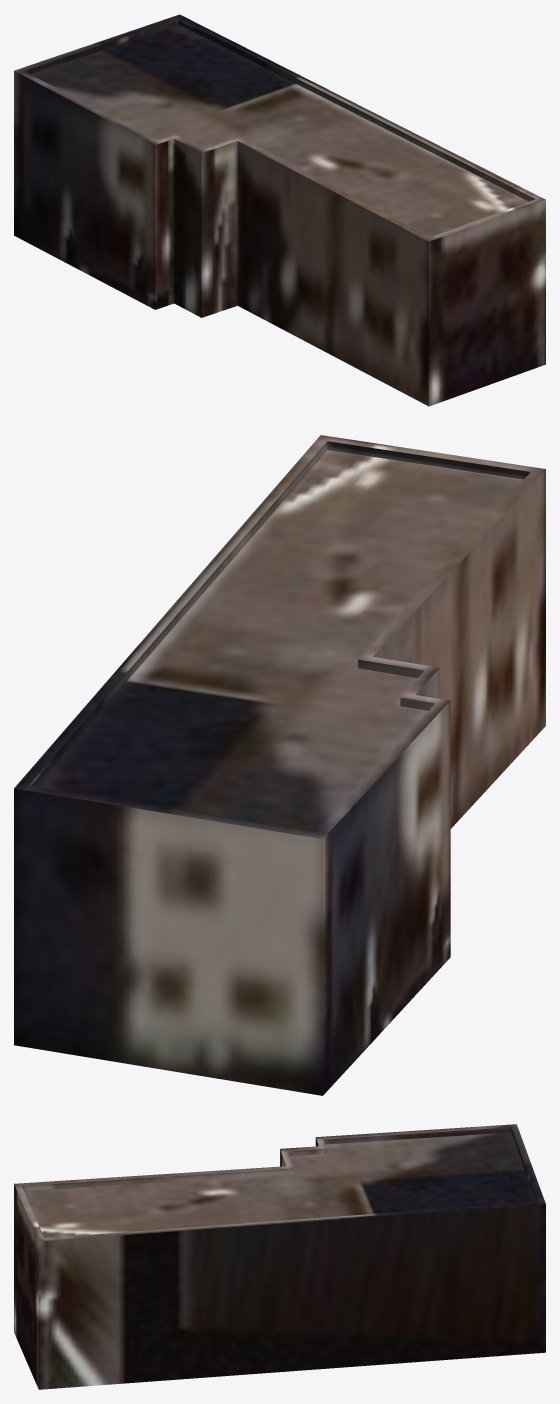
File: 01100-bldg-303345.glb
3 views of the same model, one above another, from view 1: azimuth 30°, elevation 25°; view 2: azimuth 150°, elevation 25°; view 3: azimuth 270°, elevation 25° (orthographic). The views are drawn at different scales.
Visible parts, largest first — view 1: model; view 2: model; view 3: model.
Part boxes in pixels (bbox=[...]): model: bbox=[14, 14, 545, 406]; model: bbox=[14, 435, 545, 1095]; model: bbox=[14, 1124, 545, 1389].
Bounding box in the file's own units: 12.43 × 7.34 × 23.83.
2 materials, 1 textured.
